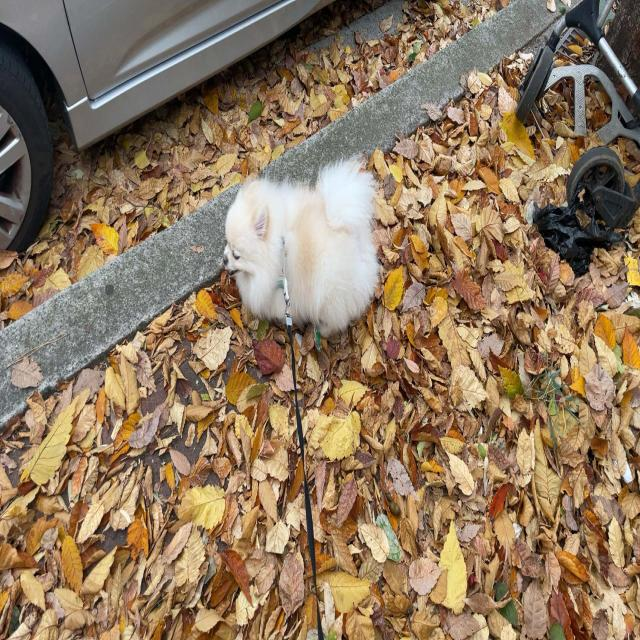Dog: (222, 156, 380, 334)
